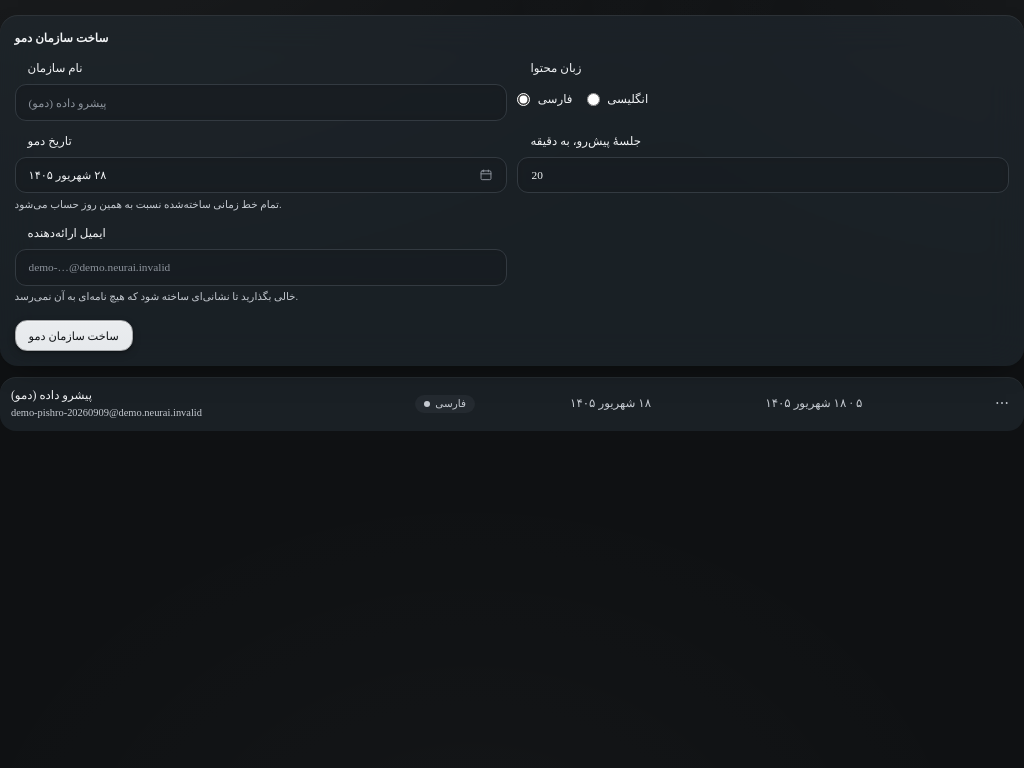
Test: the demo tab › re-seeds for the date the dialog carries, then watches that job in the same modal
The width and height of the screenshot is (1024, 768).
Expected: the text "پیشرو داده (دمو)" is shown, [11,388,92,402]
Press the mouse on the button named "کارهای این ردیف" at (1002, 403), box [991,392,1013,414]
Click the button named "کارهای این ردیف" at (1002, 403), box [991,392,1013,414]
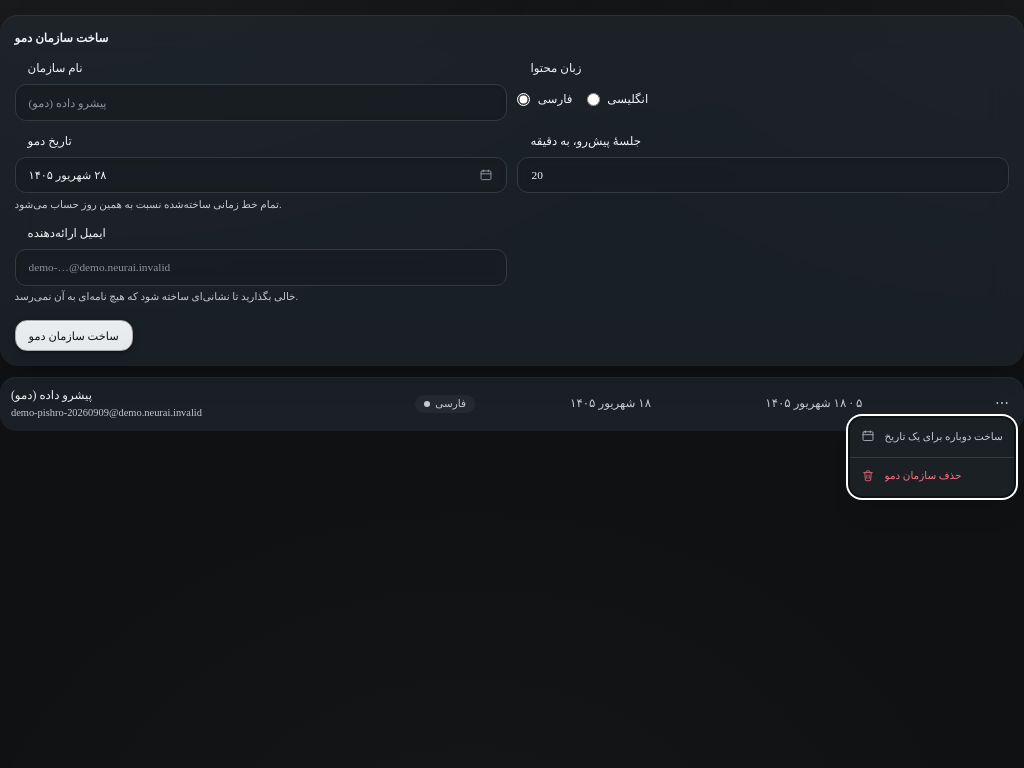
Click the menu item "ساخت دوباره برای یک تاریخ" at (932, 436), box [861,429,1003,443]
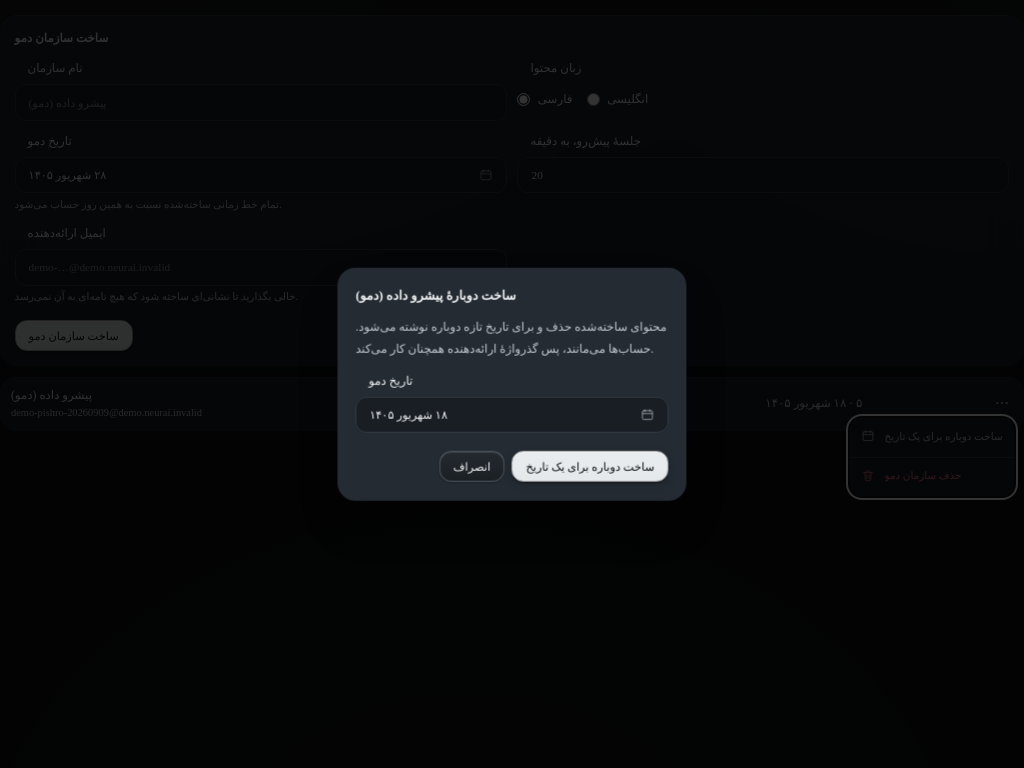
Now the text "حساب‌ها می‌مانند" is shown, box [356,320,667,356]
Click the button "ساخت دوباره برای یک تاریخ" at (590, 467), box [512,451,668,482]
Wait 2100 ms
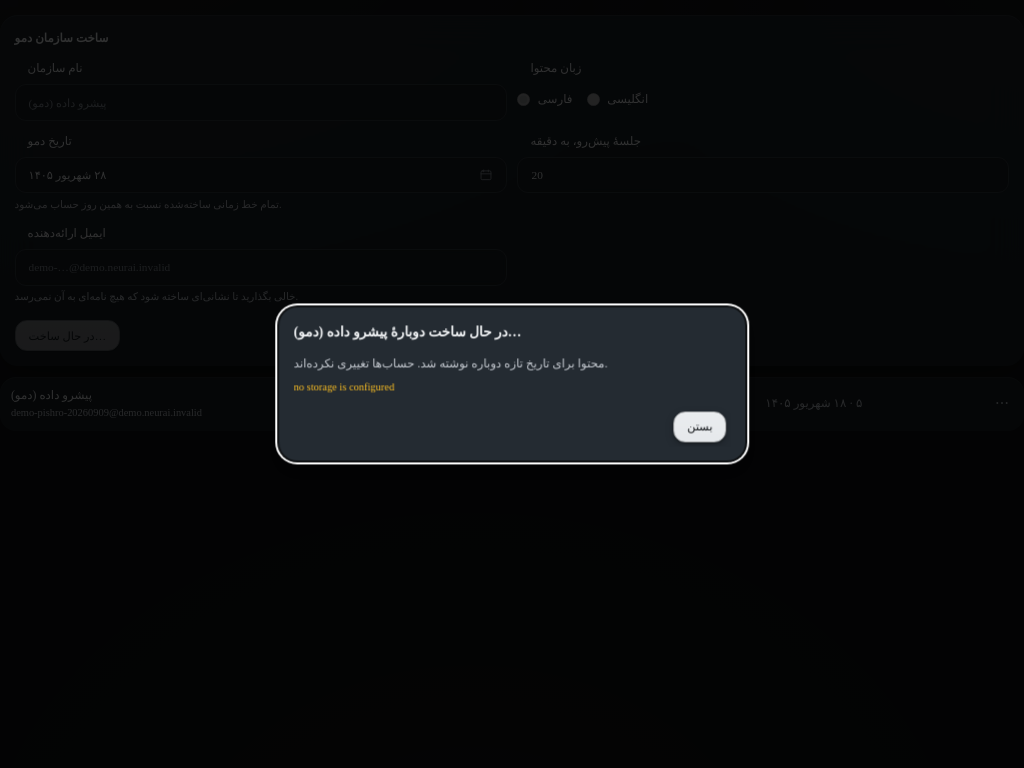
Now the heading "در حال ساخت دوبارهٔ پیشرو داده (دمو)…" is shown, box [294,322,521,342]
Now the text "دوباره نوشته شد" is shown, box [294,356,608,370]
Now the text "no storage is configured" is shown, box [294,382,394,393]
